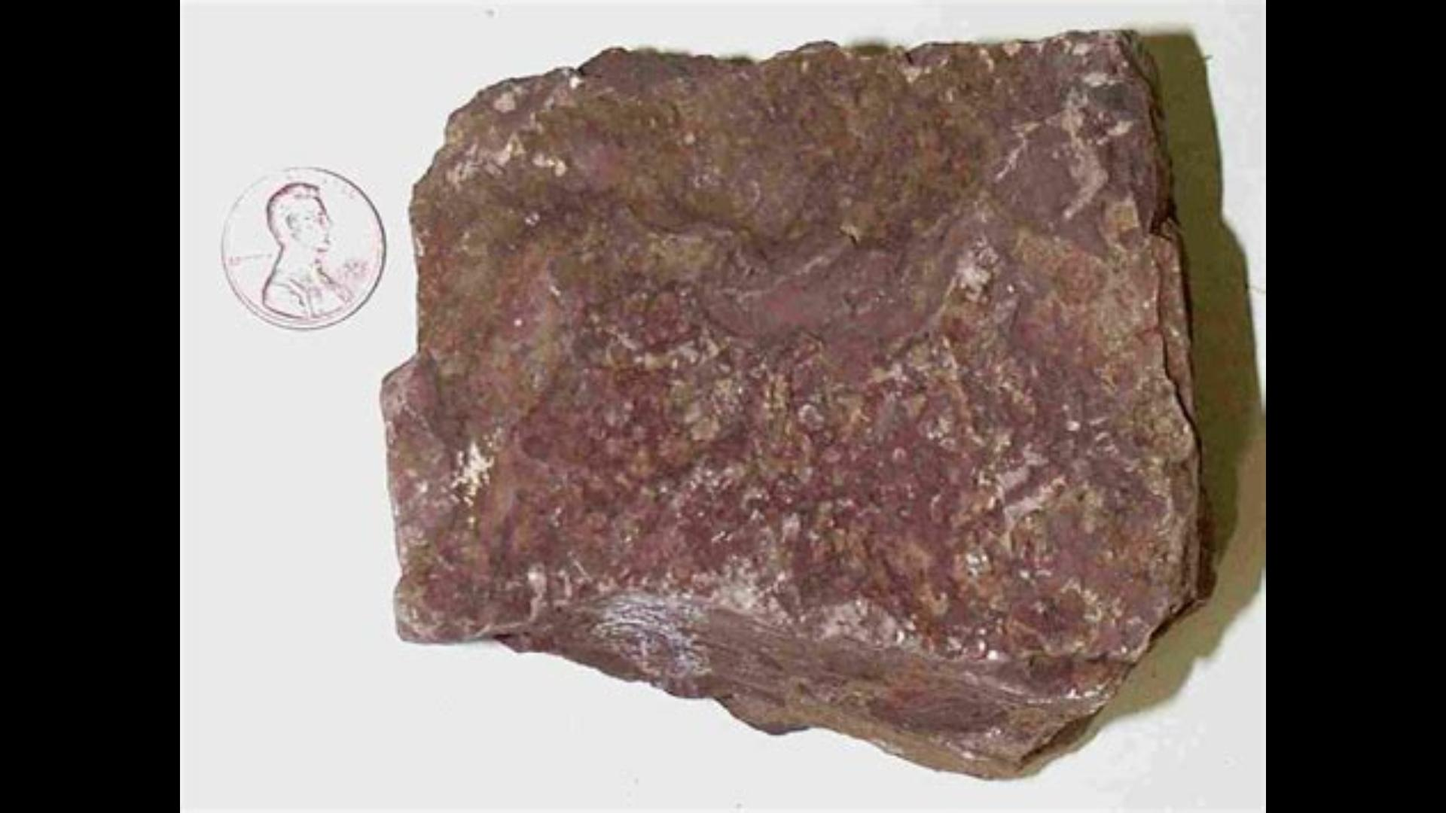rock: (384, 41, 1197, 772)
